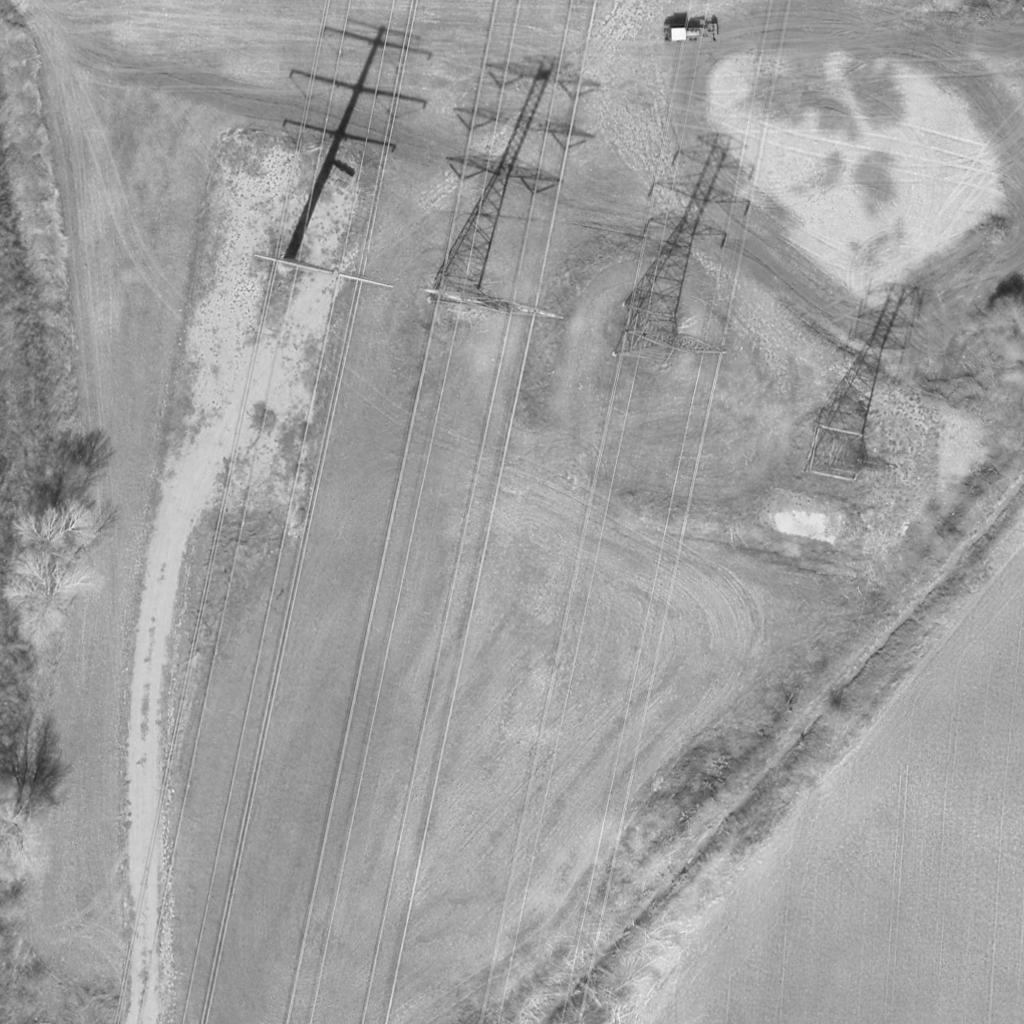vehicle: (664, 20, 718, 46)
